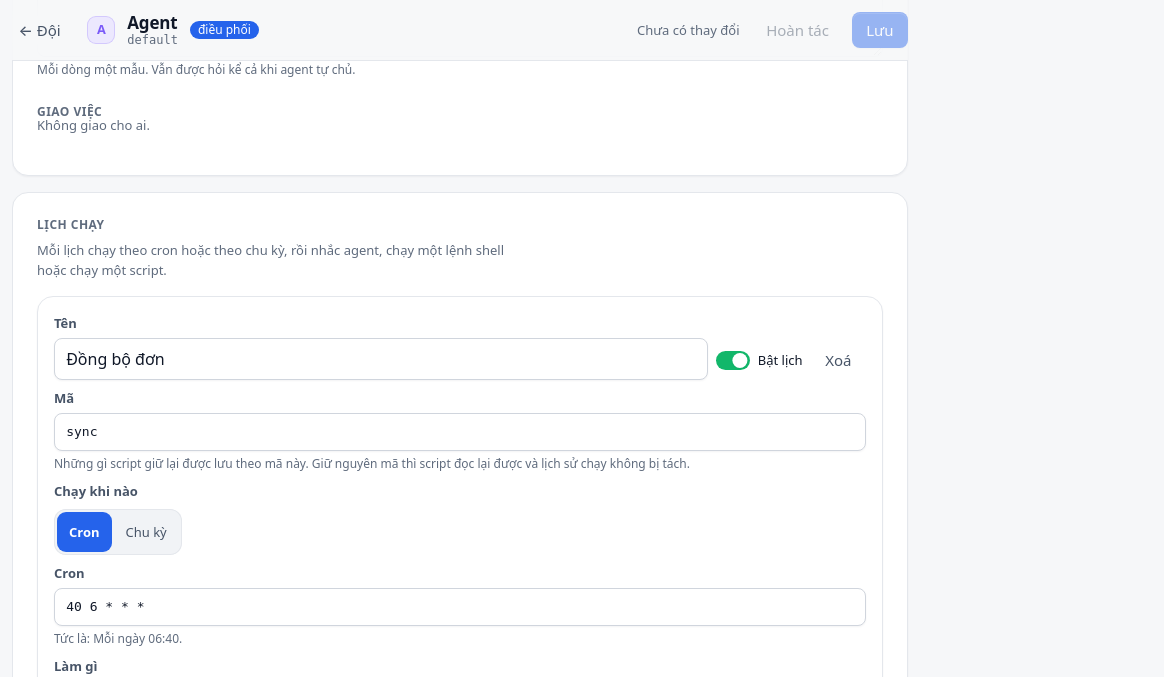
Test: a schedule that runs a script, in the agent editor › can be removed like any other row
(page scrolled)
Click the button "Xoá". click: click(838, 360)
box: [810,340,866,380]
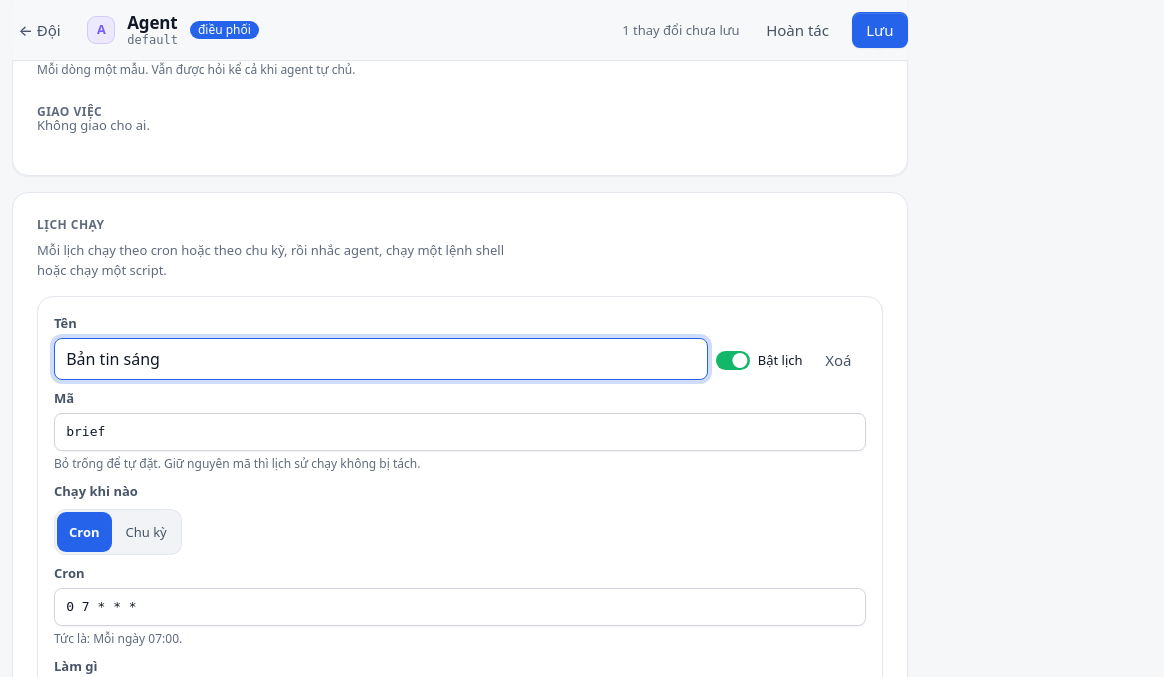
Click the button "Lưu". click: click(880, 30)
box: [852,12,908,48]
(page scrolled)
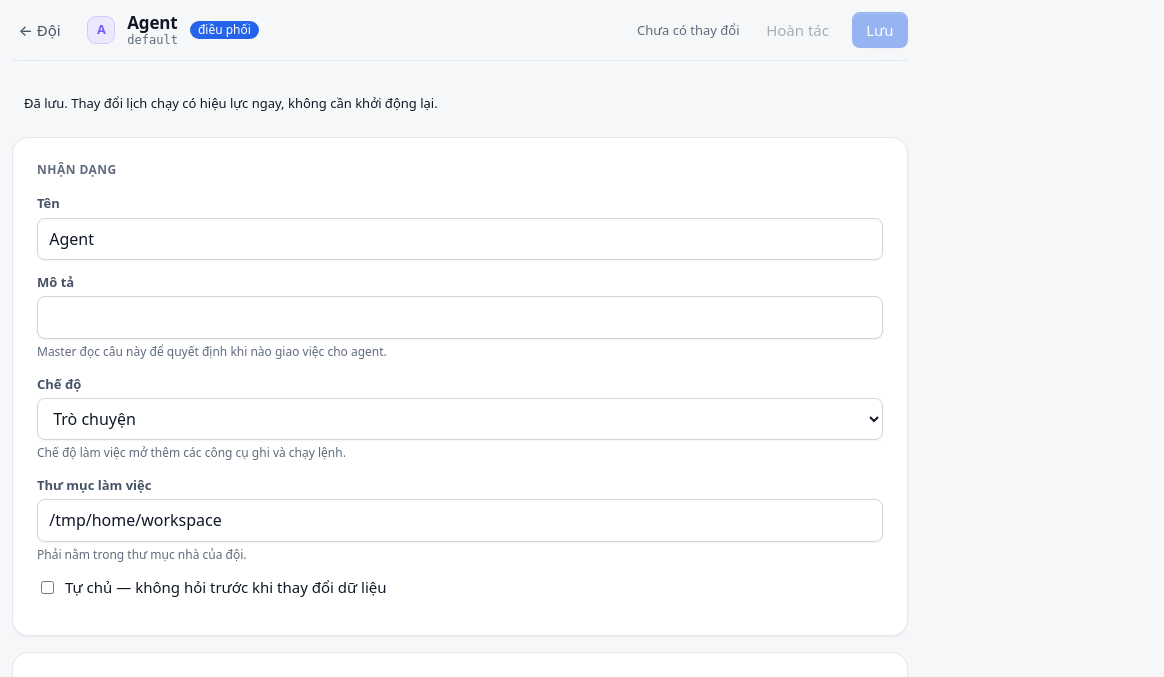
Expected: the message "Đã lưu. Thay đổi lịch chạy có hiệu lực ngay, không cần khởi động lại." is shown, [24,94,438,112]
